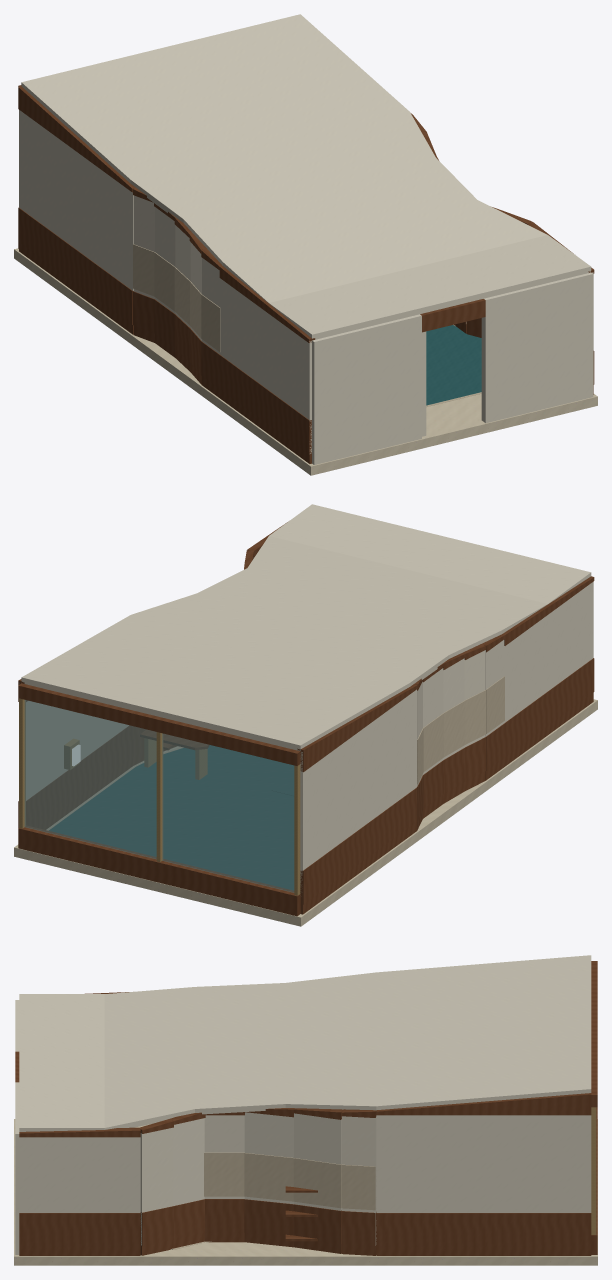
Rendered from shell.glb.
3 renders of one model, top to bottom at view 1: azimuth 30°, elevation 25°; view 2: azimuth 150°, elevation 25°; view 3: azimuth 270°, elevation 25°, orthographic.
Visible parts, largest first — view 1: SUI_Runtime_ivory_enamel, SUI_Runtime_warm_walnut, SUI_Runtime_warm_stone, SUI_Runtime_oatmeal_weave, SUI_Runtime_teal_weave; view 2: SUI_Runtime_ivory_enamel, SUI_Runtime_warm_walnut, SUI_Runtime_SuiteHospitalityGlass, SUI_Runtime_teal_weave, SUI_Runtime_warm_stone, SUI_Runtime_oatmeal_weave, SUI_Runtime_champagne_metal; view 3: SUI_Runtime_ivory_enamel, SUI_Runtime_warm_walnut, SUI_Runtime_warm_stone, SUI_Runtime_oatmeal_weave, SUI_Runtime_champagne_metal.
Boxes of the visible parts, box(x1,y1,x2,y2) form: SUI_Runtime_ivory_enamel: box(19, 14, 593, 464); SUI_Runtime_warm_walnut: box(18, 85, 594, 463); SUI_Runtime_warm_stone: box(14, 248, 597, 475); SUI_Runtime_oatmeal_weave: box(133, 244, 481, 406); SUI_Runtime_teal_weave: box(426, 325, 481, 405); SUI_Runtime_ivory_enamel: box(19, 504, 593, 885); SUI_Runtime_warm_walnut: box(18, 522, 594, 916); SUI_Runtime_SuiteHospitalityGlass: box(24, 700, 294, 892); SUI_Runtime_teal_weave: box(49, 745, 293, 890); SUI_Runtime_warm_stone: box(14, 699, 597, 926); SUI_Runtime_oatmeal_weave: box(46, 676, 504, 830); SUI_Runtime_champagne_metal: box(19, 698, 300, 895); SUI_Runtime_ivory_enamel: box(15, 955, 591, 1254); SUI_Runtime_warm_walnut: box(15, 961, 597, 1255); SUI_Runtime_warm_stone: box(14, 1119, 597, 1265); SUI_Runtime_oatmeal_weave: box(170, 1152, 375, 1249); SUI_Runtime_champagne_metal: box(591, 1107, 596, 1234).
Size of the model in its own units: 7.2 by 4.26 by 12.9.
8 materials, 6 textured.
